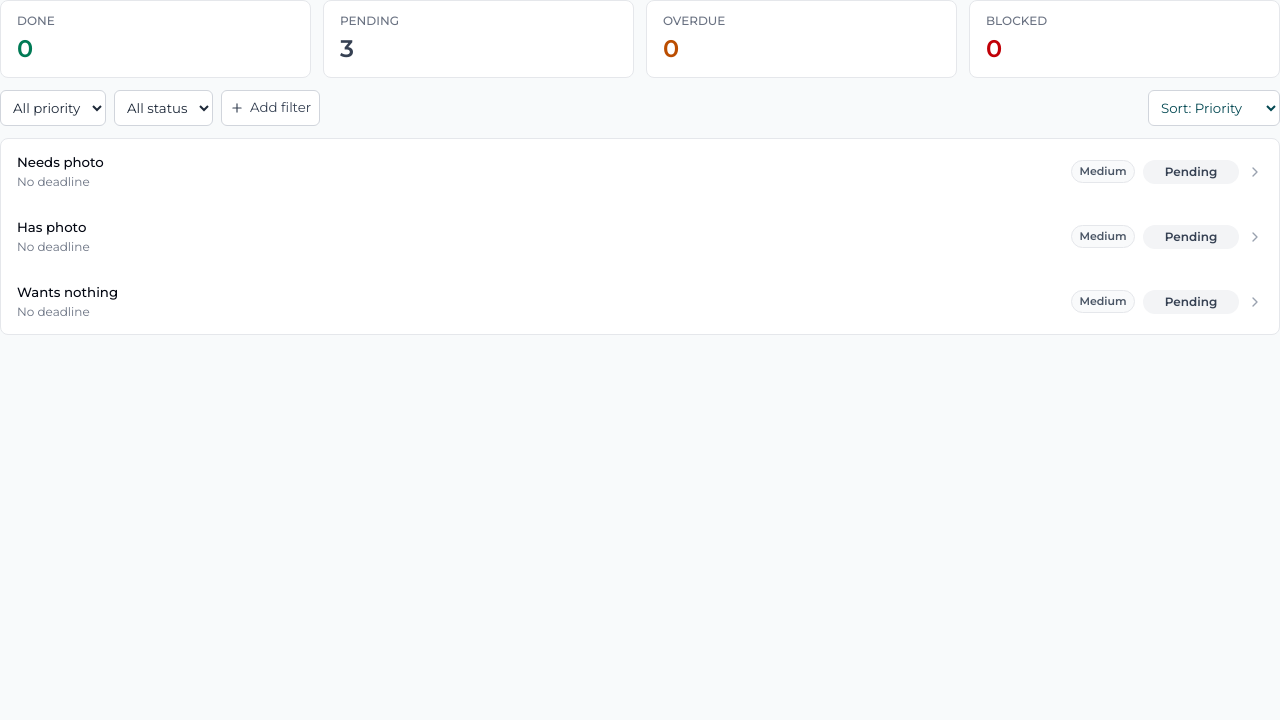
My Tasks record-level filters run before grouping › filters on missing proof only where the template asked for it
This screenshot has width=1280, height=720.
Click the button "Add filter" at (271,108), box x1=221 y1=90 x2=320 y2=126
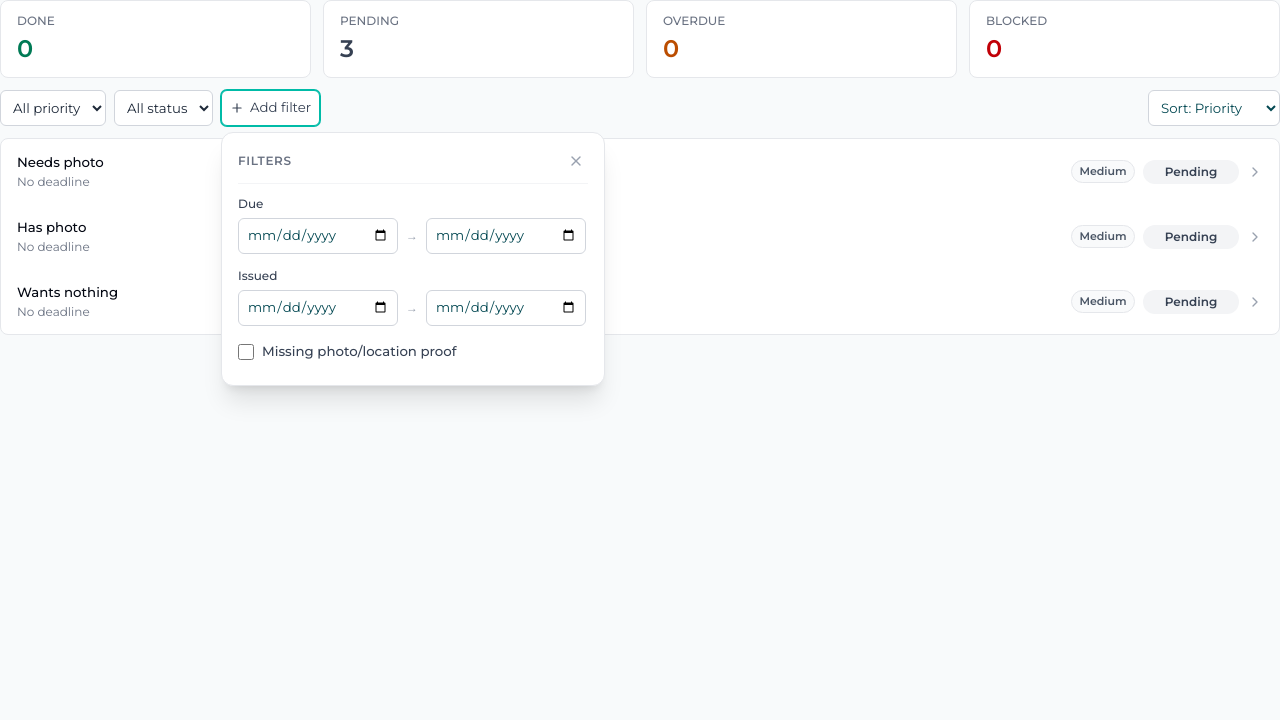
Click the checkbox labelled "Missing photo/location proof" at (246,352), box x1=238 y1=344 x2=254 y2=360
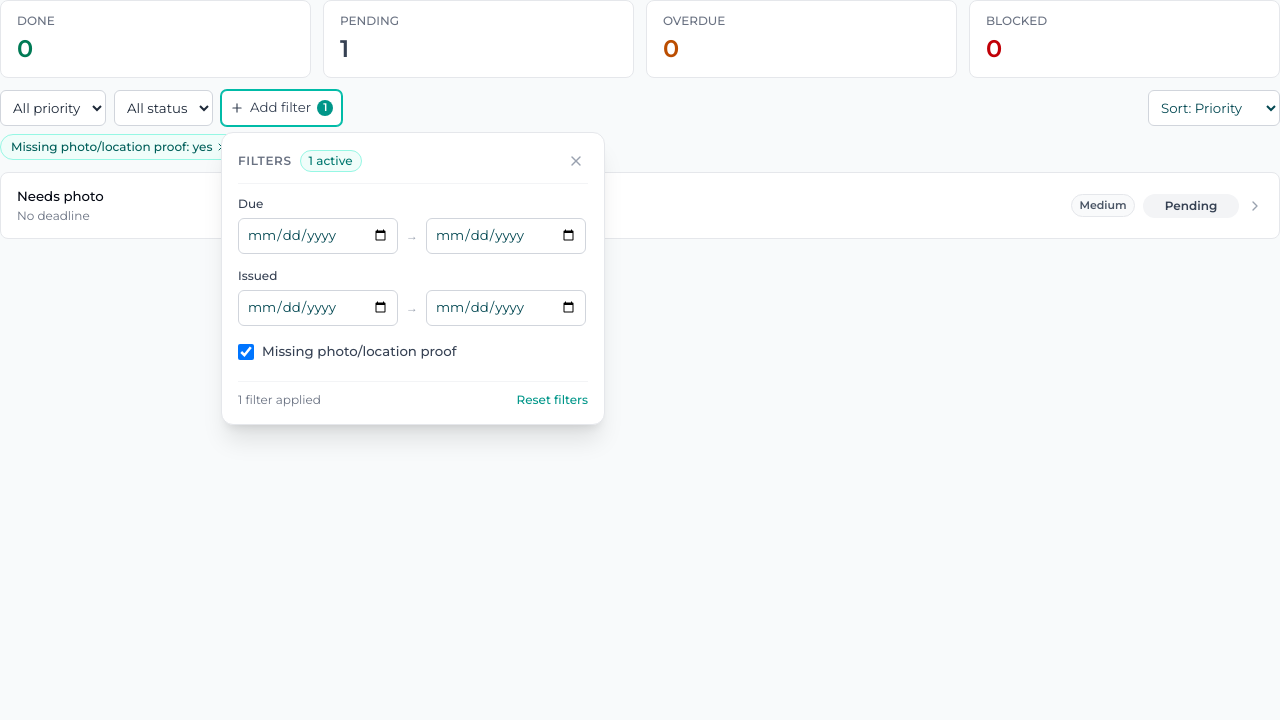
Check: the text "Needs photo" is shown, box x1=17 y1=187 x2=104 y2=206
Check: the button "Has photo" is gone
Check: the button "Wants nothing" is gone
